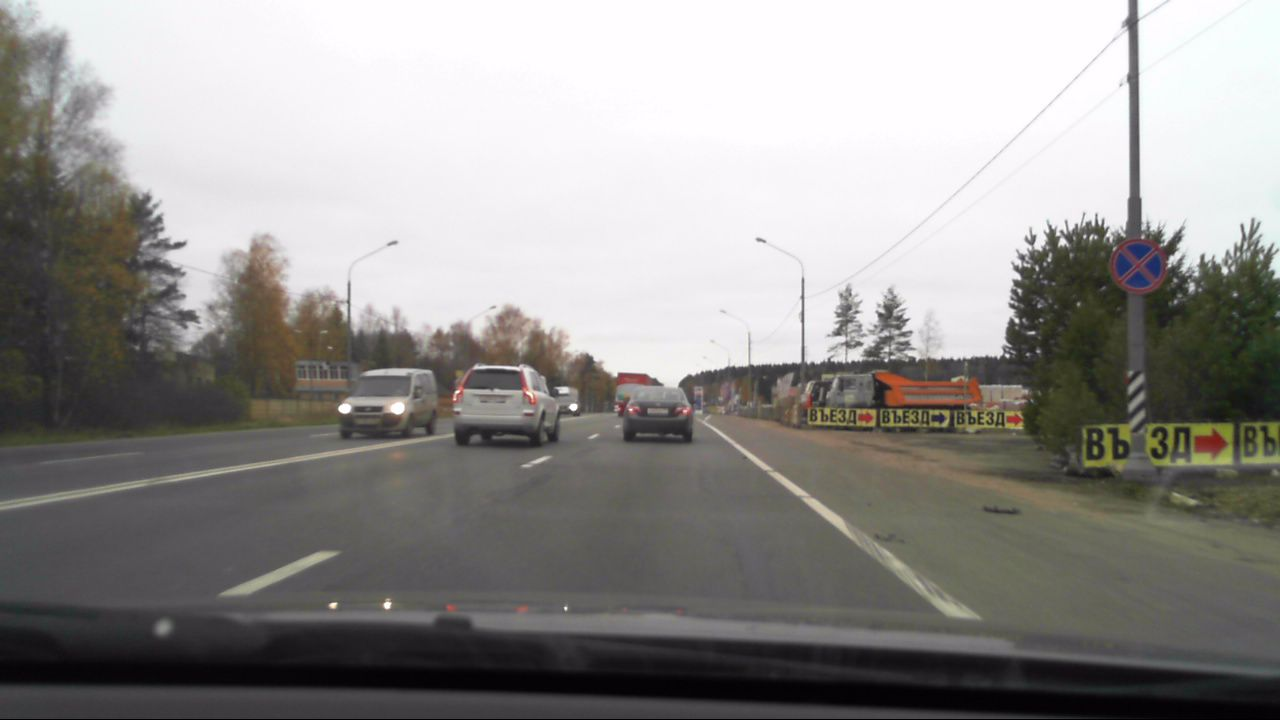No Parking: (1109, 237, 1167, 302)
